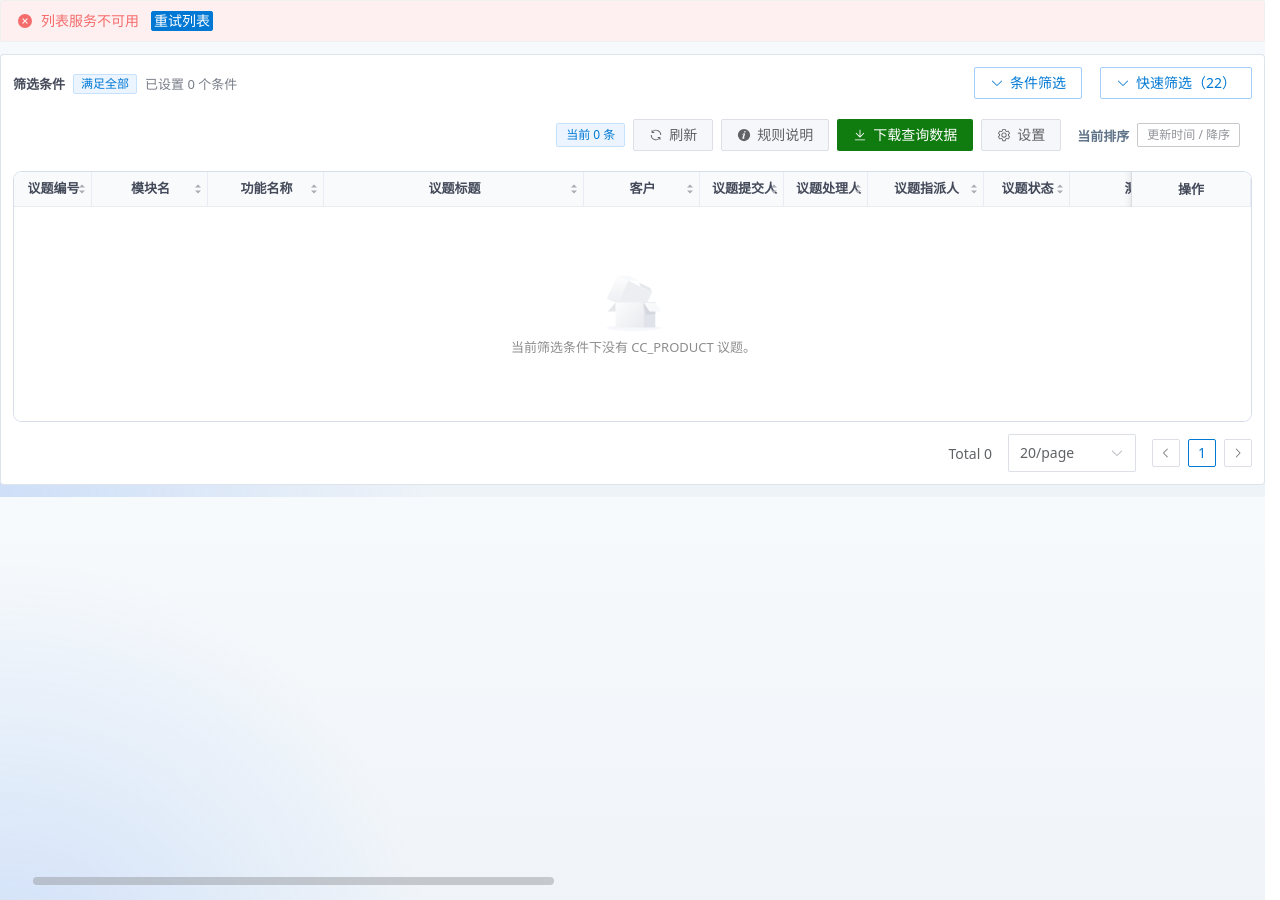
CustomerIssueRecordsView loading lifecycle › keeps a table error visible and replaces it after an explicit retry
The image size is (1280, 900).
Click the button "重试列表": click(182, 21) [151,11,213,31]
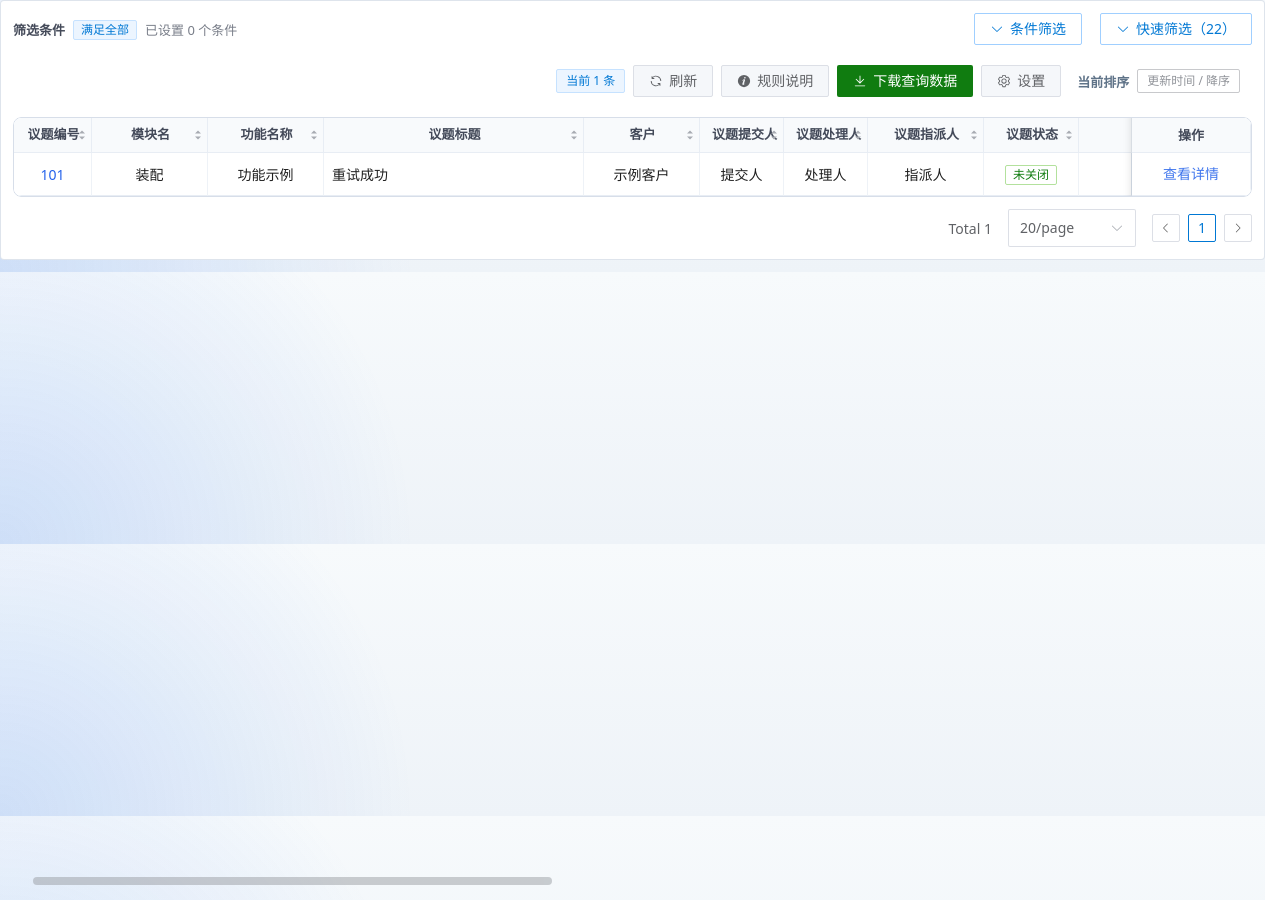
Expected: the text "重试成功" is shown, [332,165,388,184]
Expected: the text "列表服务不可用" is gone
